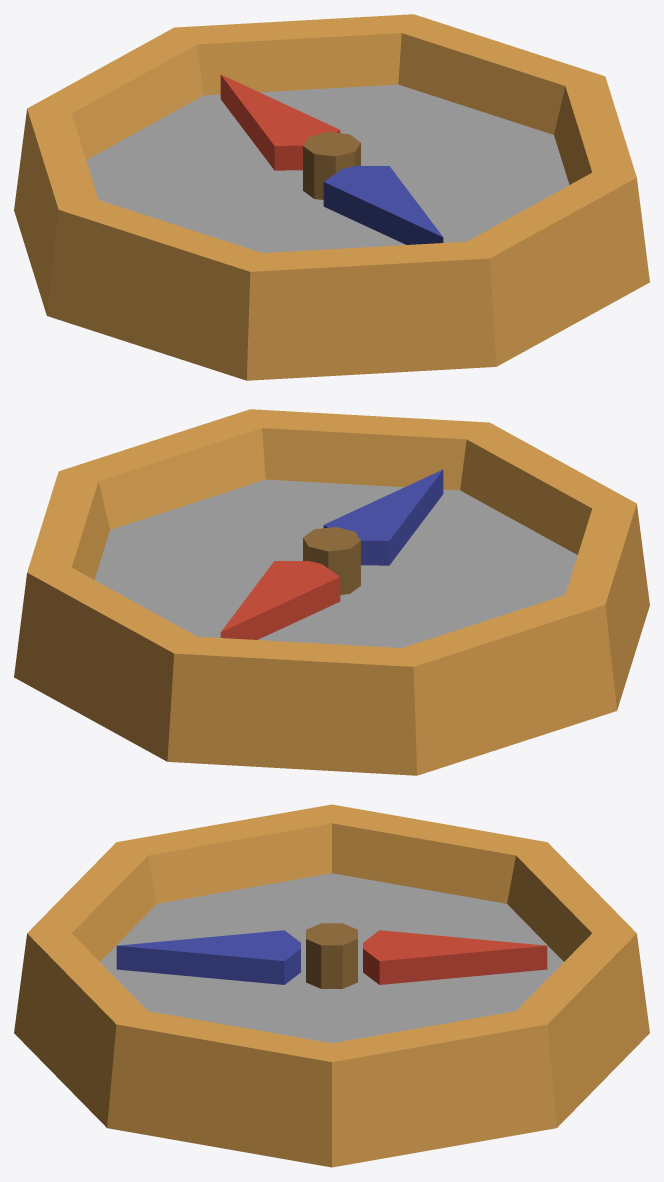
The model's file is Compass.fbx.
3 views of the same model, one above another, from view 1: azimuth 30°, elevation 25°; view 2: azimuth 150°, elevation 25°; view 3: azimuth 270°, elevation 25° (orthographic). The views are drawn at different scales.
Visible parts, largest first — view 1: Compass; view 2: Compass; view 3: Compass.
Part boxes in pixels (left/top/right/bottom): Compass: left=14, top=14, right=649, bottom=380; Compass: left=14, top=409, right=649, bottom=775; Compass: left=14, top=804, right=649, bottom=1167.
Size of the model in its own units: 19.86 by 3.44 by 19.86.
